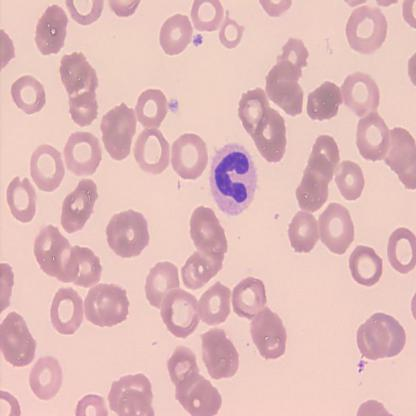Band Neutrophil: (208, 142, 258, 218)
